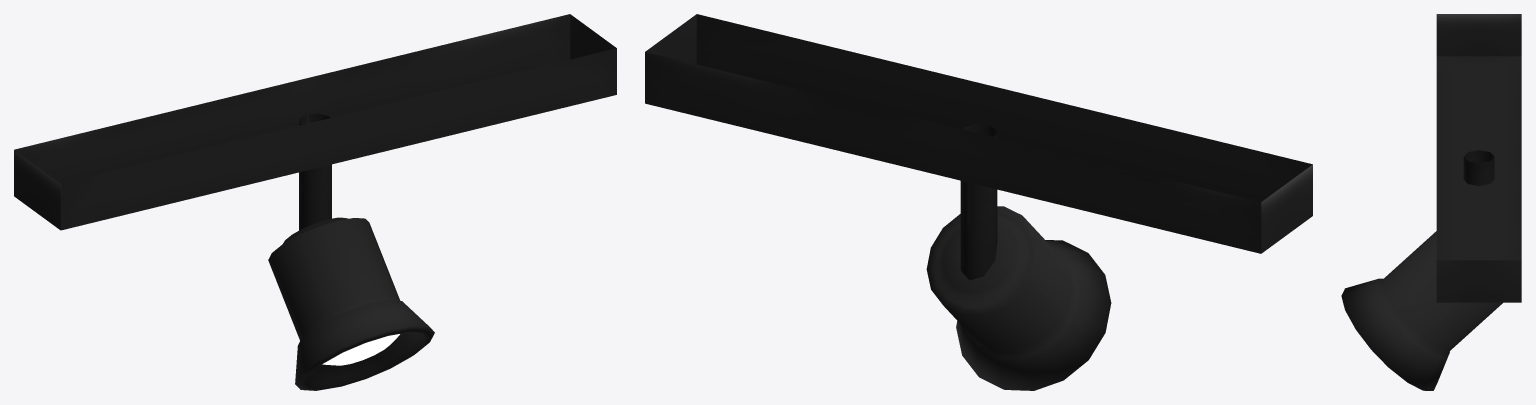
File: Focos.fbx
3 renders of one model, left to right at view 1: azimuth 30°, elevation 25°; view 2: azimuth 150°, elevation 25°; view 3: azimuth 270°, elevation 25°, orthographic. The views are drawn at different scales.
Visible parts, largest first — view 1: Foco_base, Foco_luz, Foco_brazo; view 2: Foco_base, Foco_luz, Foco_brazo; view 3: Foco_base, Foco_luz, Foco_brazo.
Part boxes in pixels (box(x1,y1,x2,y2)): Foco_base: box(14, 14, 616, 230); Foco_luz: box(268, 217, 434, 390); Foco_brazo: box(299, 113, 331, 230); Foco_base: box(645, 14, 1312, 253); Foco_luz: box(926, 206, 1111, 390); Foco_brazo: box(960, 124, 997, 280); Foco_base: box(1436, 14, 1521, 302); Foco_luz: box(1341, 231, 1502, 390); Foco_brazo: box(1463, 150, 1494, 185).
Size of the model in its own units: 160 by 74.54 by 49.46.
Materials: 1 (1 with a texture image).
